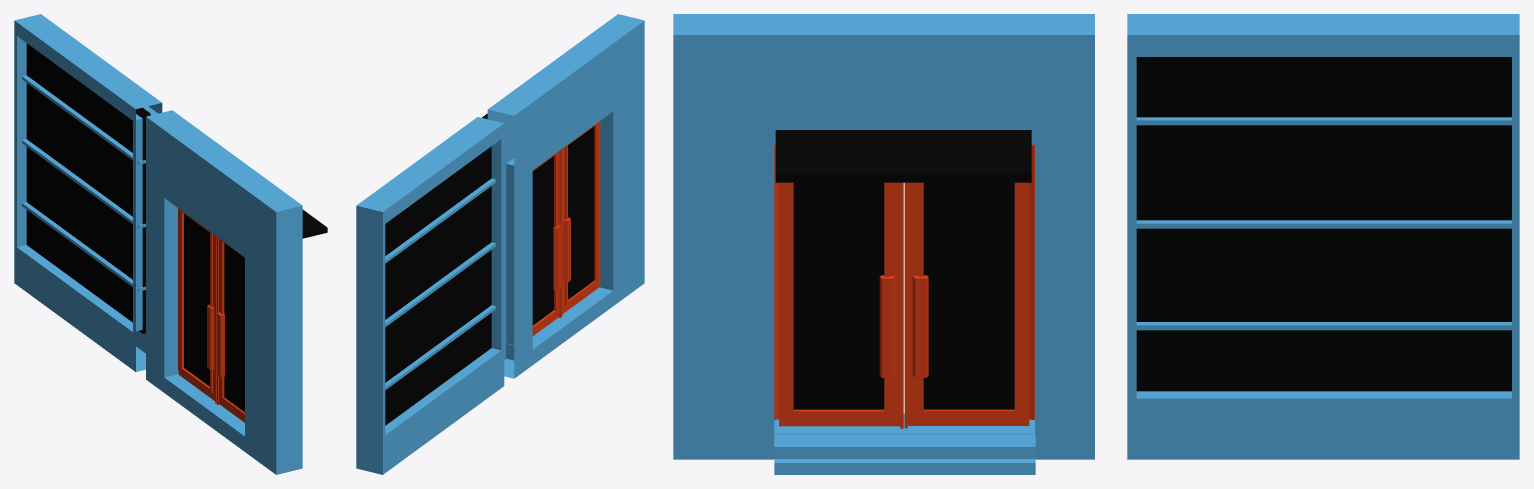
Rendered from WallWindow.fbx.
The picture shows the model from 3 angles, left to right: view 1: azimuth 30°, elevation 25°; view 2: azimuth 150°, elevation 25°; view 3: azimuth 270°, elevation 25°; orthographic projection. The views are drawn at different scales.
Visible parts, largest first — view 1: Window, DoorWall, Door; view 2: Window, DoorWall, Door; view 3: Window, DoorWall, Door.
Part boxes in pixels (<box>): Window: <box>14,14,162,371</box>; DoorWall: <box>146,110,327,474</box>; Door: <box>178,208,244,422</box>; Window: <box>356,117,504,474</box>; DoorWall: <box>482,14,644,378</box>; Door: <box>532,121,600,335</box>; Window: <box>1127,14,1519,459</box>; DoorWall: <box>673,14,1094,474</box>; Door: <box>774,144,1034,428</box>.
Bounding box in the file's own units: 119 × 359 × 649.
